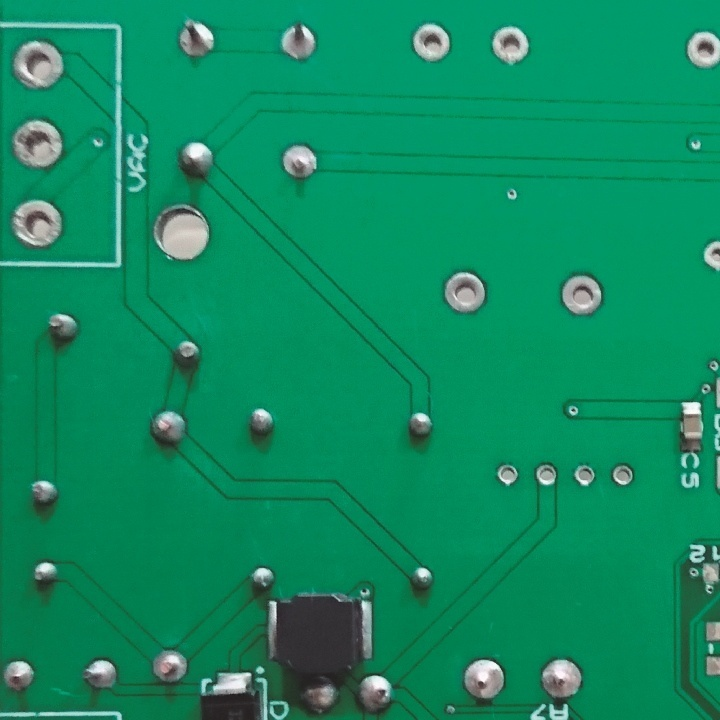F: (9, 117, 64, 175), (10, 197, 65, 253), (10, 38, 65, 92), (538, 652, 586, 703), (559, 269, 605, 320), (442, 268, 490, 315), (461, 658, 508, 704), (145, 643, 193, 686), (488, 25, 533, 69), (413, 23, 456, 66), (684, 29, 720, 80), (175, 18, 217, 60), (281, 21, 321, 63), (279, 143, 320, 179), (608, 459, 634, 491), (531, 461, 560, 489), (496, 460, 523, 489), (570, 460, 597, 489), (701, 237, 720, 275)
